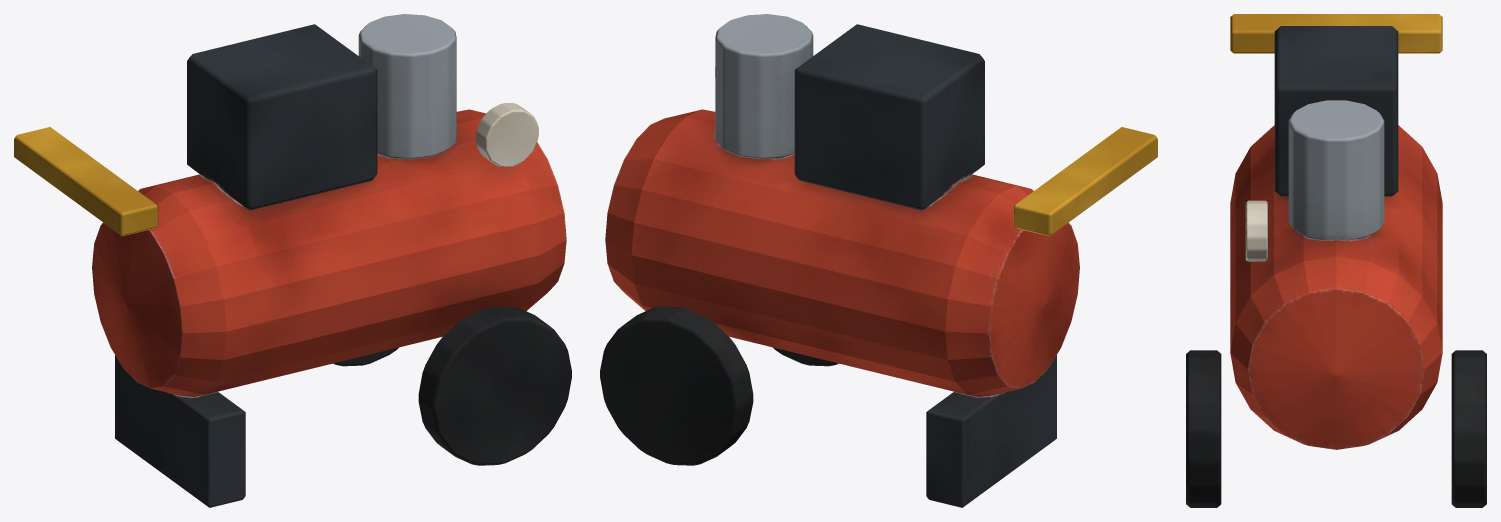
Rendered from compressor_cart.glb.
3 views of the same model, side by side, from view 1: azimuth 30°, elevation 25°; view 2: azimuth 150°, elevation 25°; view 3: azimuth 270°, elevation 25° (orthographic). The views are drawn at different scales.
Visible parts, largest first — view 1: CompressorCart; view 2: CompressorCart; view 3: CompressorCart.
Part boxes in pixels (x1=…): CompressorCart: x1=14, y1=14, x2=571, y2=507; CompressorCart: x1=600, y1=14, x2=1157, y2=507; CompressorCart: x1=1186, y1=14, x2=1486, y2=507.
Bounding box in the file's own units: 1.19 × 0.94 × 0.6801.
Materials: 1 (1 with a texture image).
